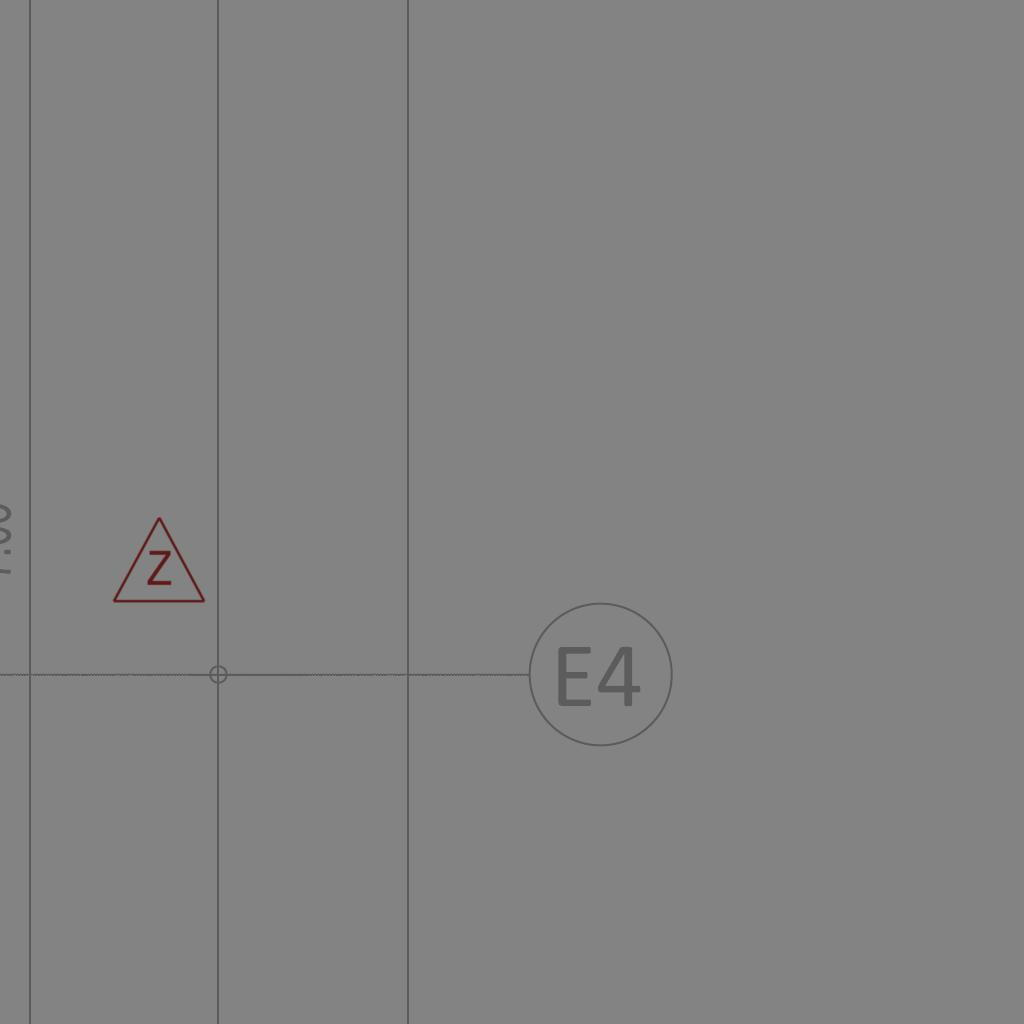Zimmersignalleuchte: (109, 510, 207, 610)
